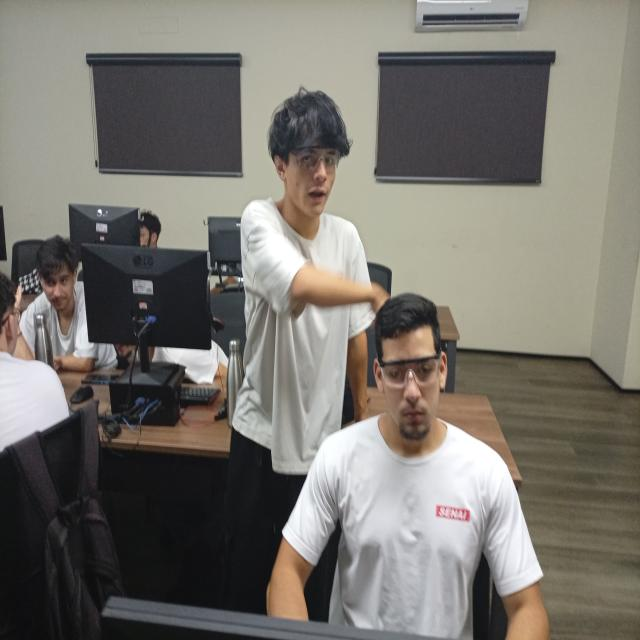oculos-epi: (375, 347, 441, 388), (290, 146, 340, 171)
sem_oculos: (0, 296, 31, 339), (30, 271, 77, 296), (136, 228, 154, 241)
